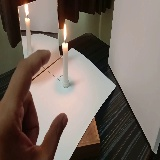fire: (64, 21, 67, 45)
